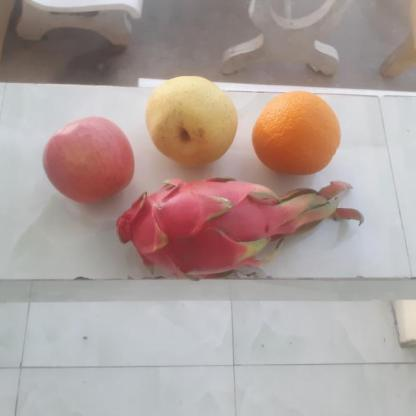apple: (41, 117, 134, 201)
orange: (249, 91, 342, 174)
pear: (140, 77, 240, 166)
pitaya: (102, 176, 282, 279)
